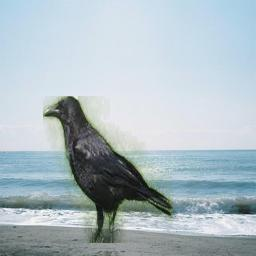Crow: (43, 96, 173, 243)
